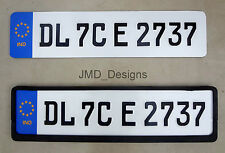number_plate: (10, 84, 221, 143), (10, 11, 208, 58)
